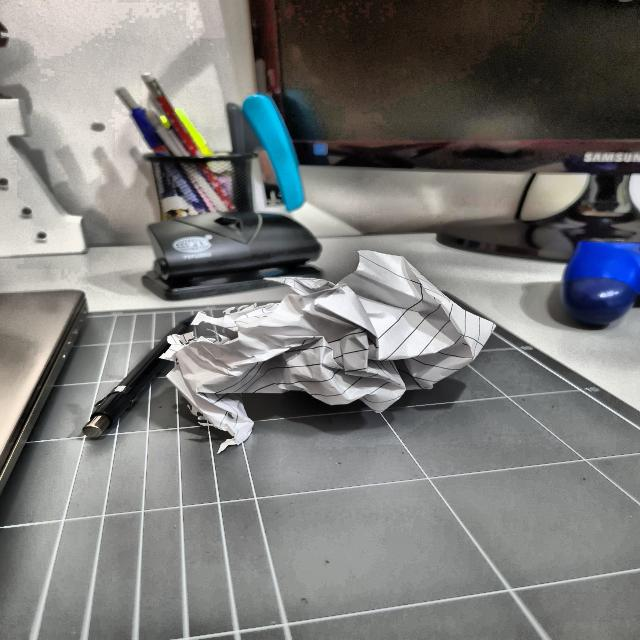Paper: (168, 245, 515, 442)
